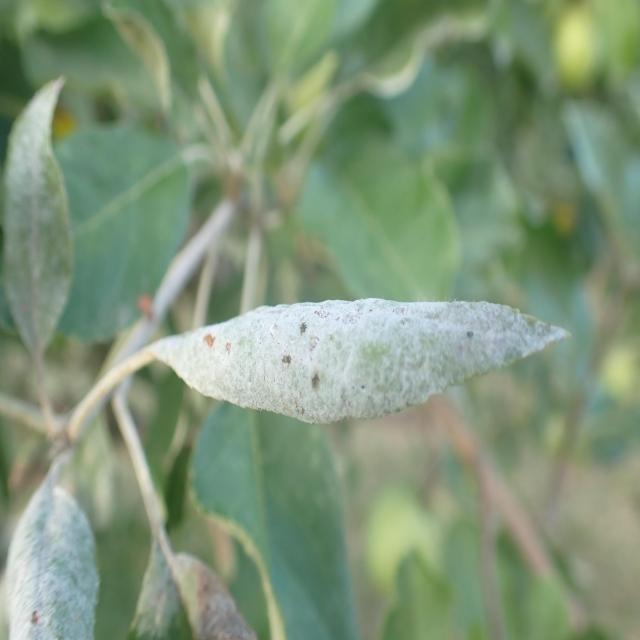Powdery_mildew: (145, 250, 568, 486), (0, 48, 75, 374), (2, 465, 111, 640)
